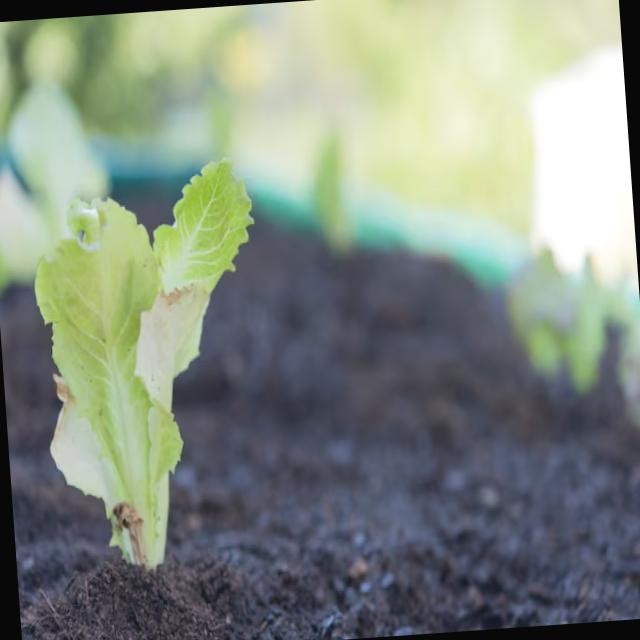verde: (35, 158, 253, 567)
